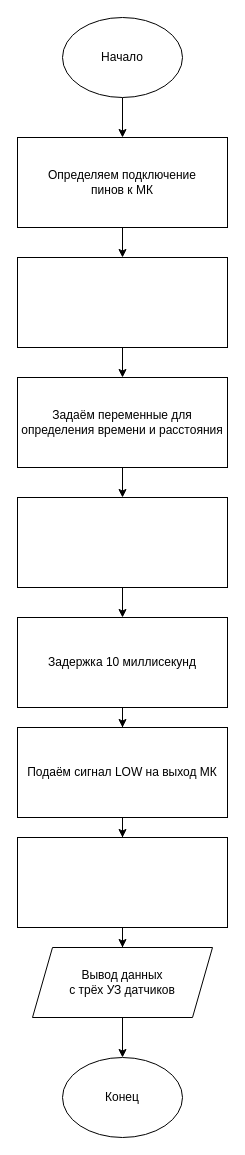
Image size: 245x1155. Some labels were removed from this diagram. The centre of each missing label's shape, as x and y in pixels:
Замеряем длину импульса и пересчитываем все в см: the point at 122,882
Инициализируем пины: the point at 122,302
Подаём сигнал на выход МК (HIGH): the point at 122,542
